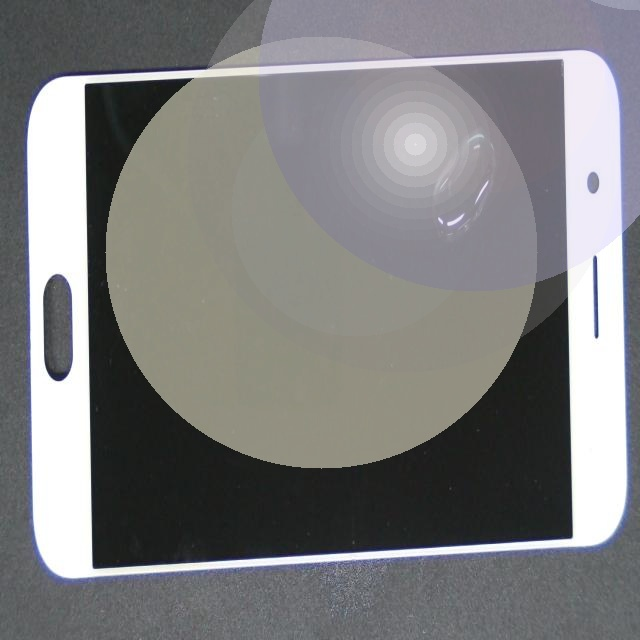oil: (256, 86, 640, 218)
